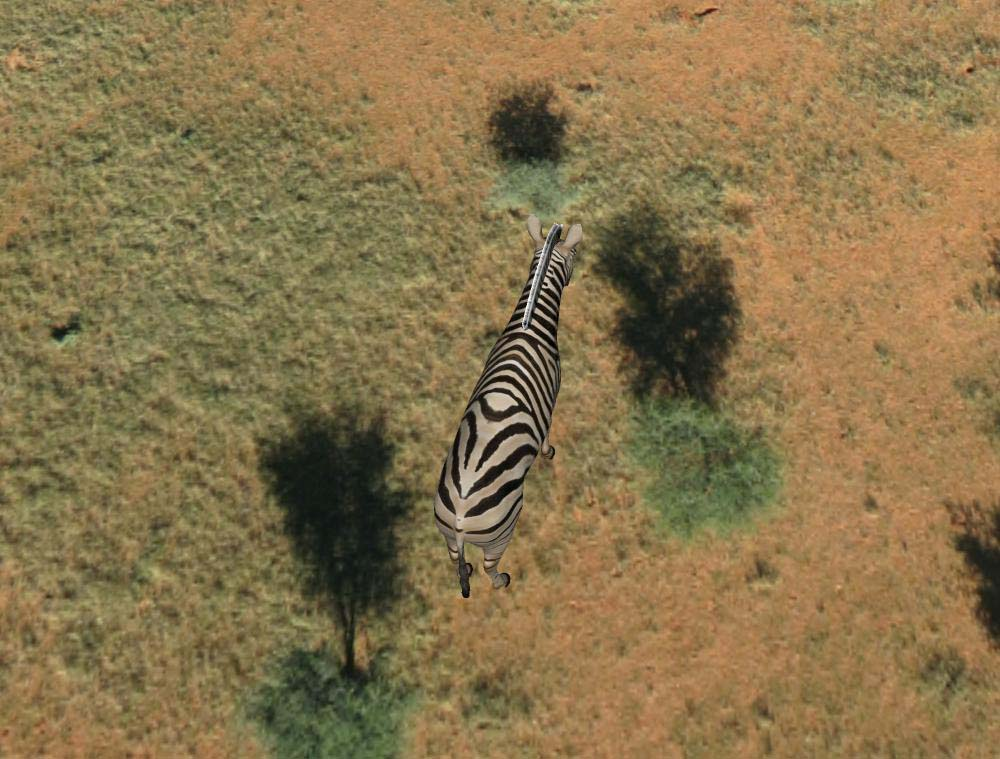zebra: (437, 207, 583, 607)
